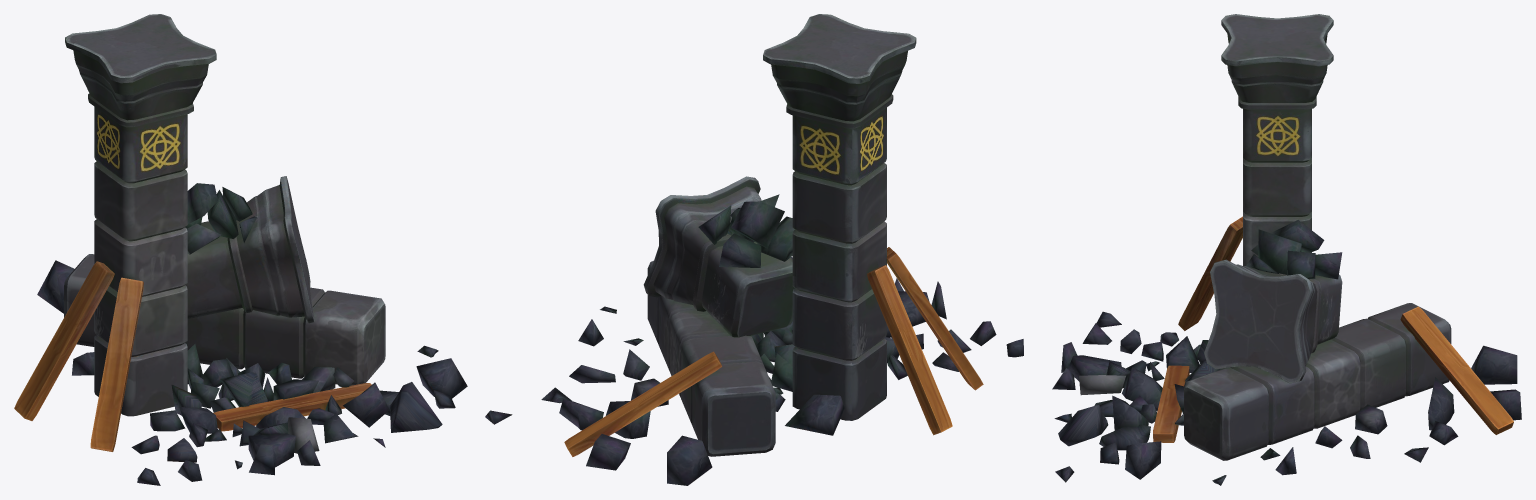
The model's file is Pillar.fbx.
3 renders of one model, left to right at view 1: azimuth 30°, elevation 25°; view 2: azimuth 150°, elevation 25°; view 3: azimuth 270°, elevation 25°, orthographic. The views are drawn at different scales.
Visible parts, largest first — view 1: Prop; view 2: Prop; view 3: Prop.
Part boxes in pixels (left/top/right/bottom): Prop: left=14, top=14, right=512, bottom=485; Prop: left=541, top=14, right=1023, bottom=485; Prop: left=1052, top=14, right=1521, bottom=485.
Size of the model in its own units: 7.02 by 6.43 by 7.99.
1 material, 1 textured.
